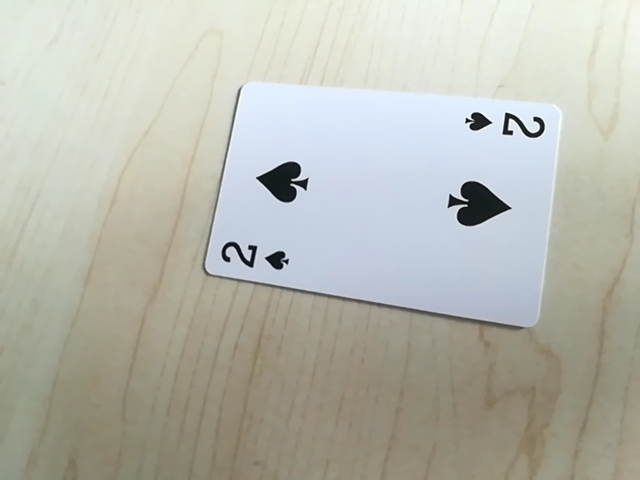ht 2: (460, 106, 552, 146), (213, 235, 297, 278)
